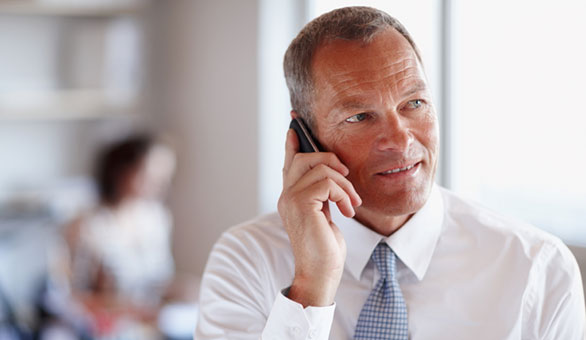phone: (275, 107, 351, 203)
talk: (271, 78, 438, 276)
